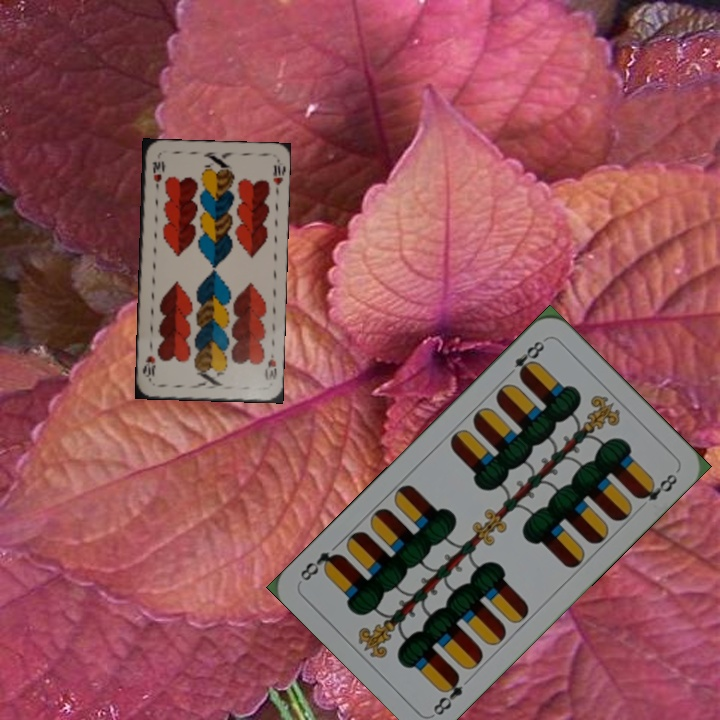E8: (502, 336, 547, 381), (429, 669, 466, 718)
H10: (261, 349, 279, 383), (148, 157, 165, 192)
